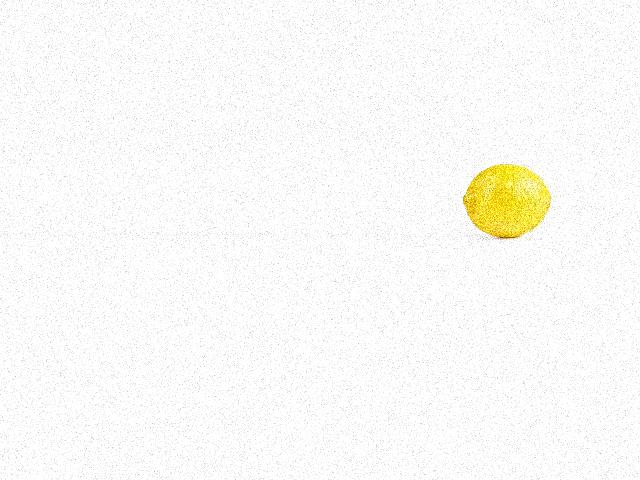lemon: (449, 162, 560, 239)
